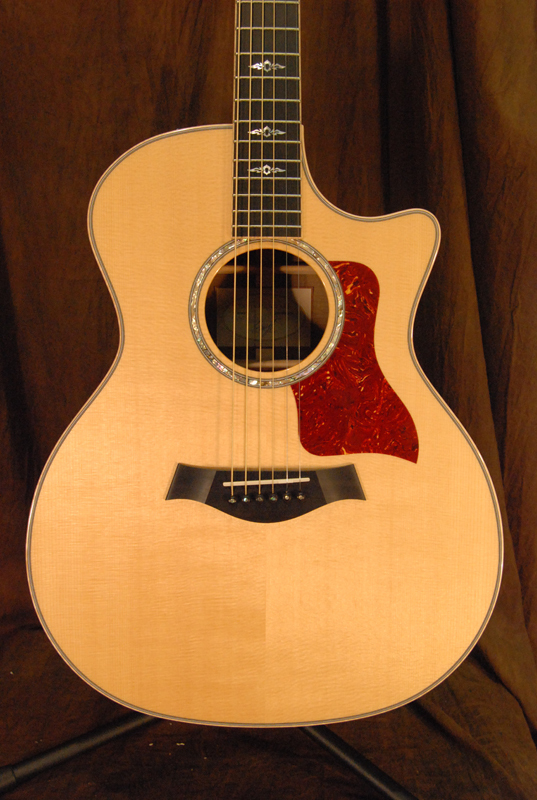guitar: (20, 1, 510, 733)
